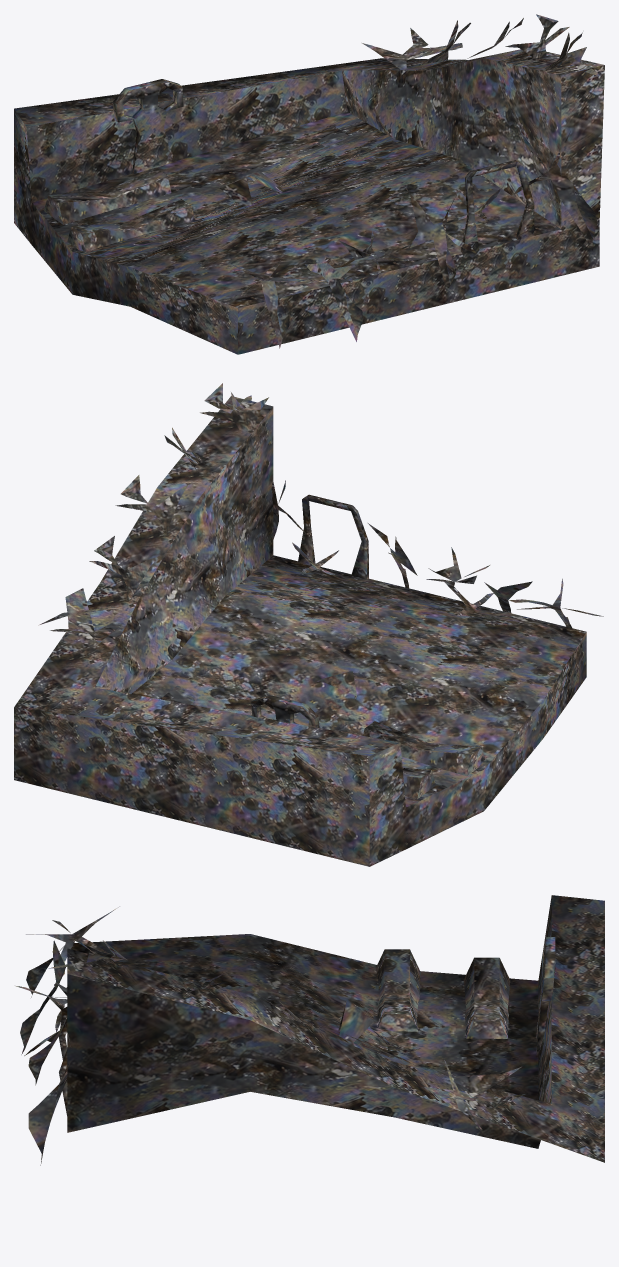
File: slime_ditch.glb
3 views of the same model, one above another, from view 1: azimuth 30°, elevation 25°; view 2: azimuth 150°, elevation 25°; view 3: azimuth 270°, elevation 25° (orthographic). The views are drawn at different scales.
Parts seen in each view (by area): view 1: slime_ditch; view 2: slime_ditch; view 3: slime_ditch.
Boxes of the visible parts, box(x1,y1,x2,y2) form: slime_ditch: box(14, 14, 604, 354); slime_ditch: box(14, 383, 603, 866); slime_ditch: box(16, 895, 604, 1165).
Size of the model in its own units: 0.2378 by 0.1377 by 0.2383.
1 material, 1 textured.
